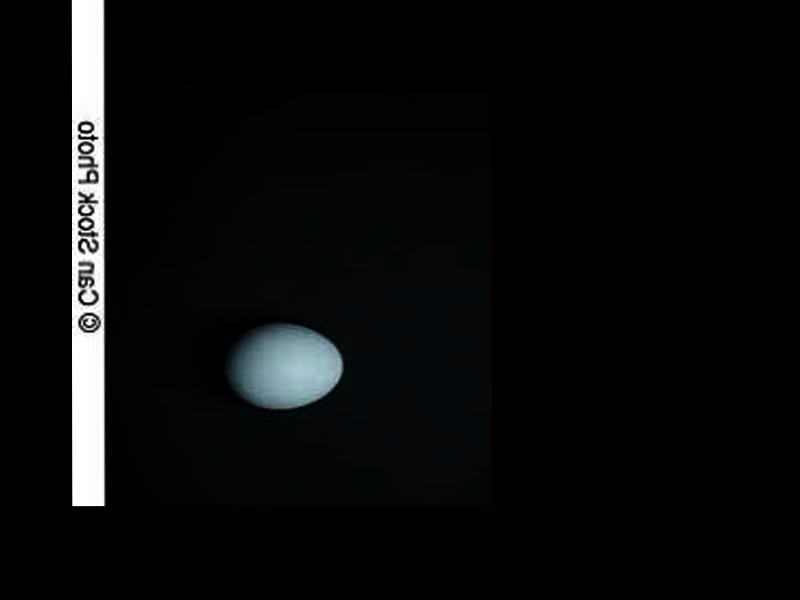Eggs: (223, 323, 344, 412)
